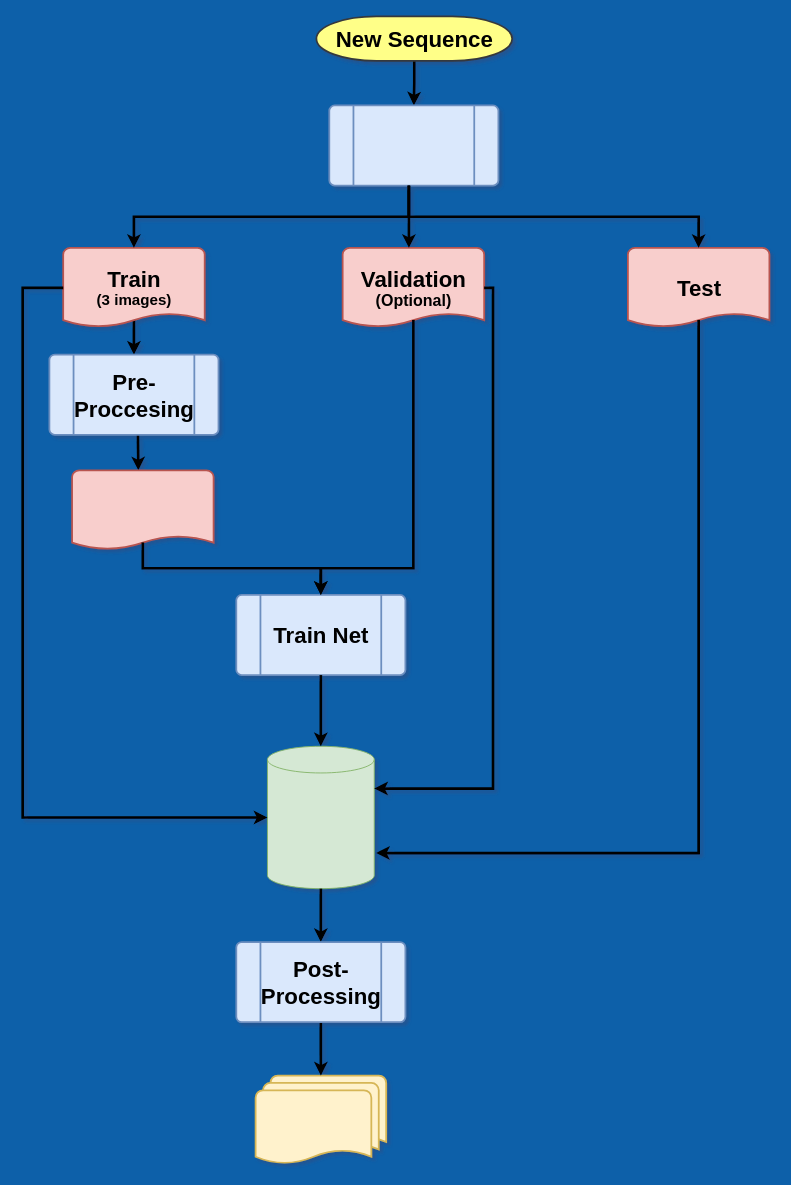
Some shapes in this 791 by 1185 pixel diagram are drawn without their labels. Each missing label, with the centre of its shape:
Augmented Train: the point at 142,510
Results: the point at 320,1119
Split: the point at 413,145
Trained Model: the point at 320,817
